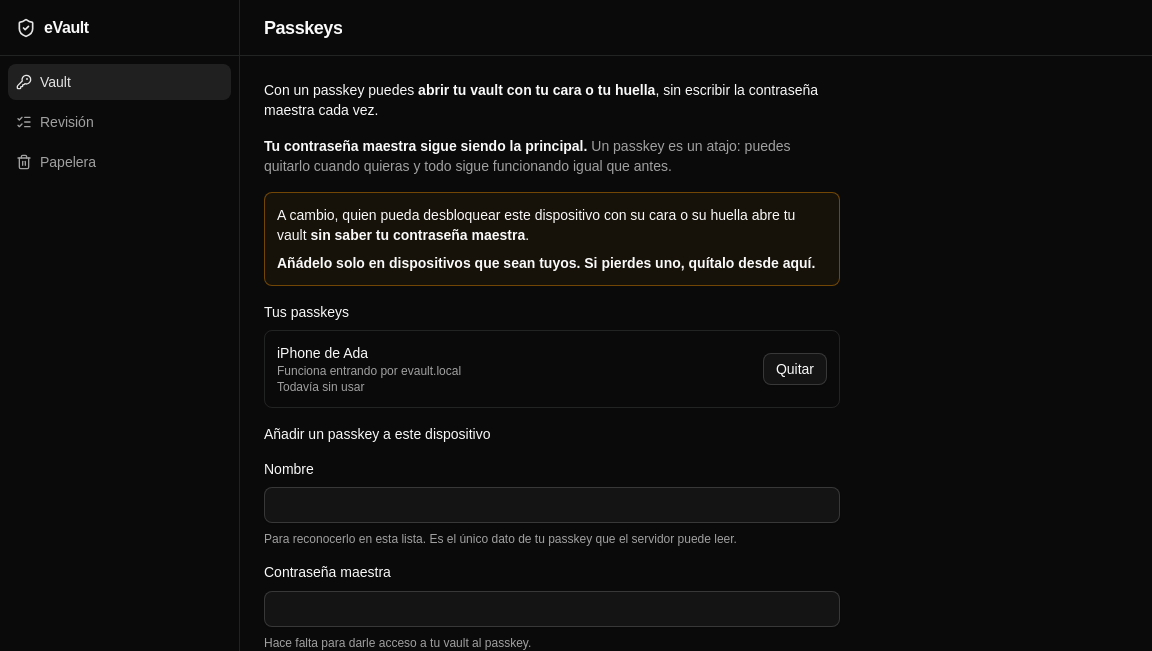
it: revoking › leaves it alone when it is not
Click the button "Quitar" at x=795, y=369, box [763,353,827,385]
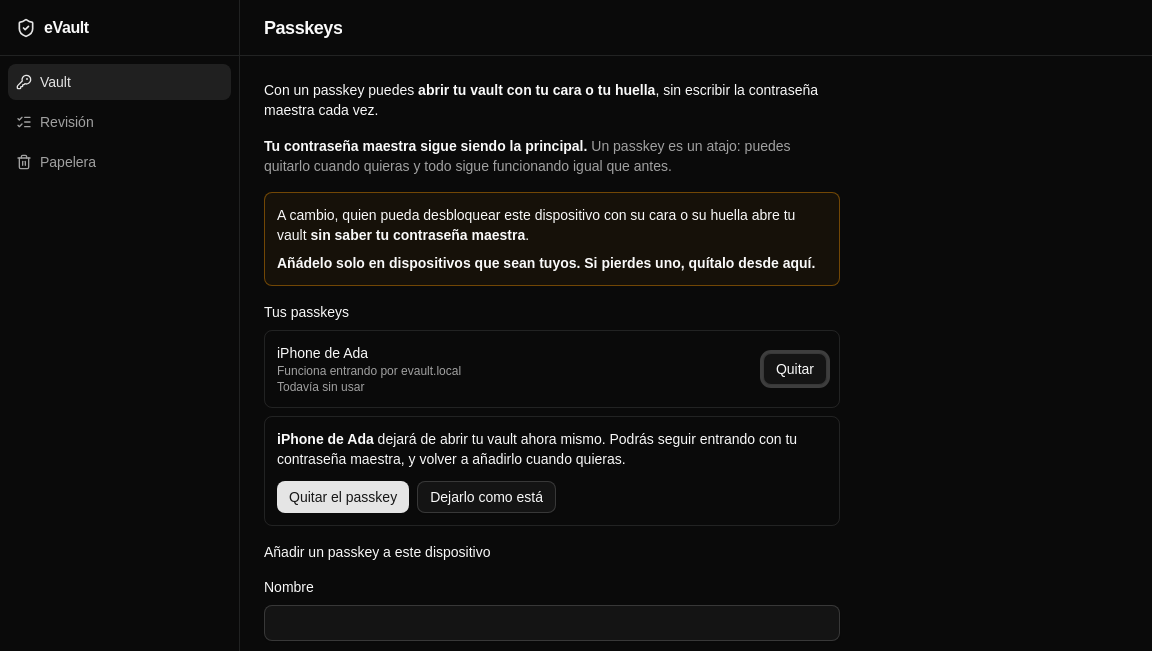
Click the button "Dejarlo como está" at x=487, y=497, box [417,481,556,513]
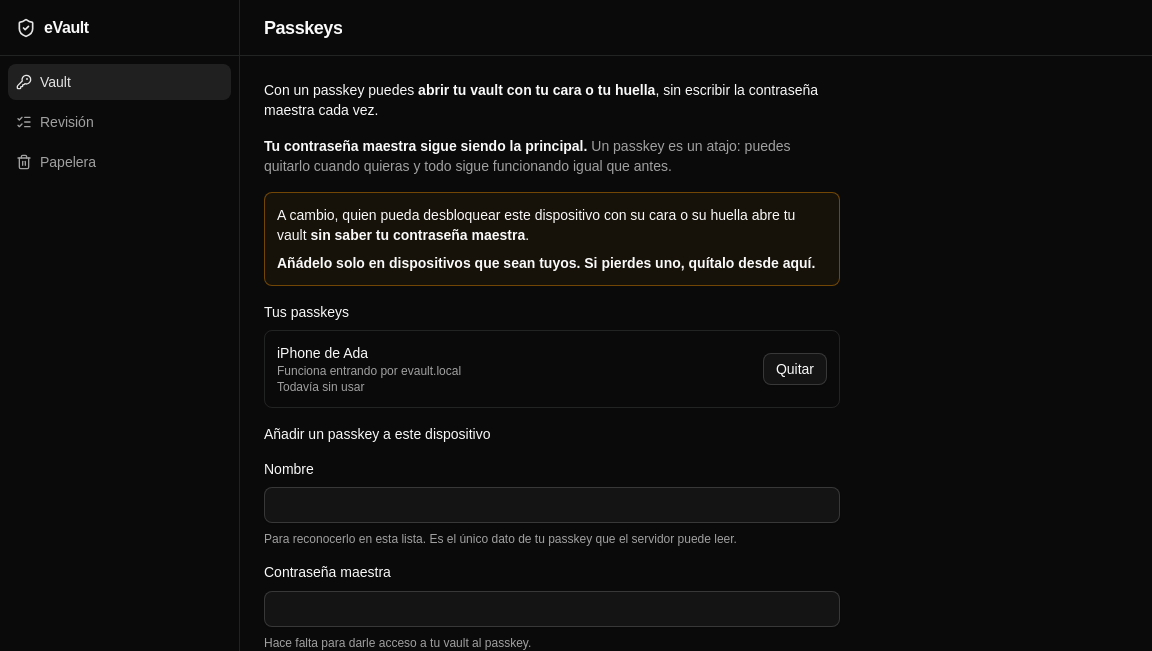
Check: the dialog is gone
